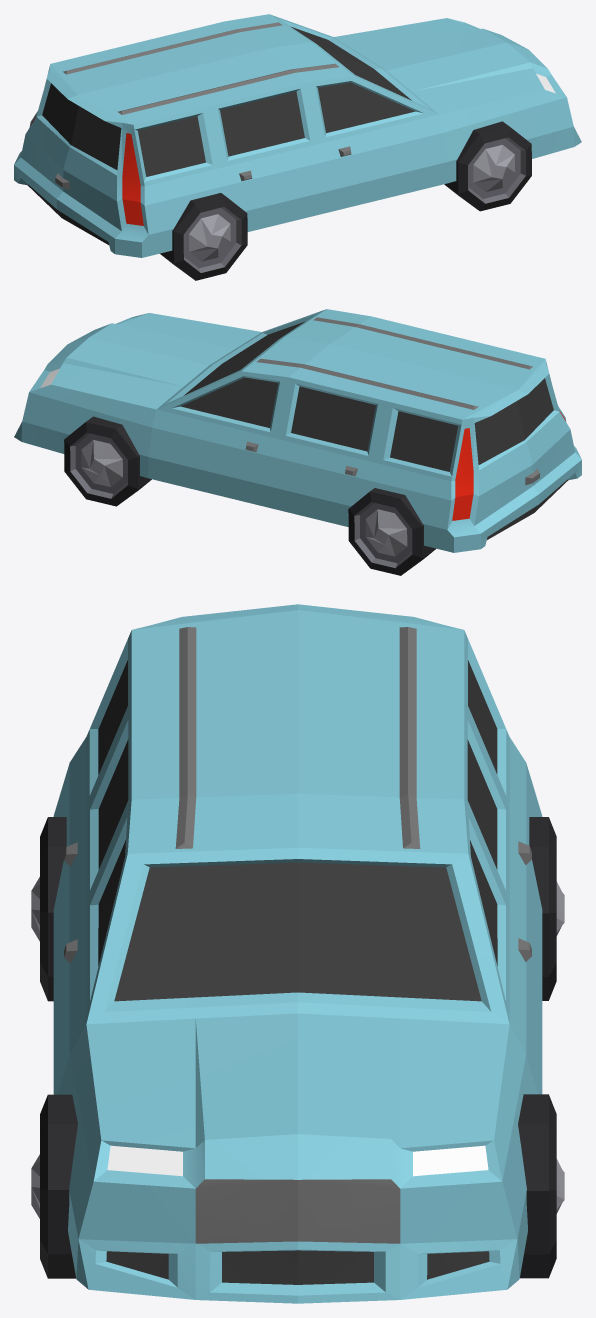
Rendered from car2.fbx.
The picture shows the model from 3 angles, top to bottom: view 1: azimuth 30°, elevation 25°; view 2: azimuth 150°, elevation 25°; view 3: azimuth 270°, elevation 25°; orthographic projection. The views are drawn at different scales.
Visible parts, largest first — view 1: car2, car2_wheels_F, car2_wheels_B; view 2: car2, car2_wheels_F, car2_wheels_B; view 3: car2, car2_wheels_F, car2_wheels_B.
Boxes of the visible parts, x1,y1,x2,y2 form: car2: (14, 14, 581, 257); car2_wheels_F: (444, 121, 531, 211); car2_wheels_B: (160, 193, 247, 280); car2: (14, 309, 581, 552); car2_wheels_F: (64, 416, 151, 506); car2_wheels_B: (348, 488, 435, 575); car2: (53, 604, 542, 1303); car2_wheels_F: (31, 1094, 564, 1278); car2_wheels_B: (31, 817, 564, 1001).
Bounding box in the file's own units: 725 × 219 × 343.
